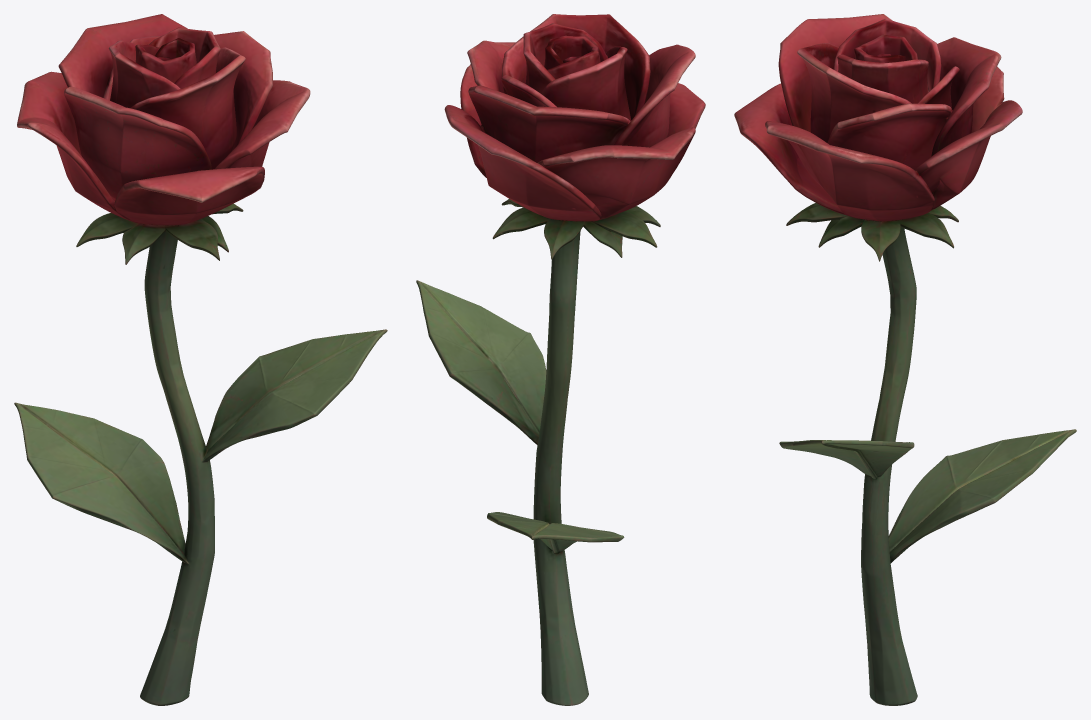
File: rose_model.glb
3 renders of one model, left to right at view 1: azimuth 30°, elevation 25°; view 2: azimuth 150°, elevation 25°; view 3: azimuth 270°, elevation 25°, orthographic.
Visible parts, largest first — view 1: node_0; view 2: node_0; view 3: node_0.
Boxes of the visible parts, x1,y1,x2,y2 form: node_0: [14, 14, 387, 705]; node_0: [416, 14, 705, 705]; node_0: [734, 14, 1076, 705].
Bounding box in the file's own units: 0.5797 × 1.15 × 0.5428.
Materials: 1 (1 with a texture image).
